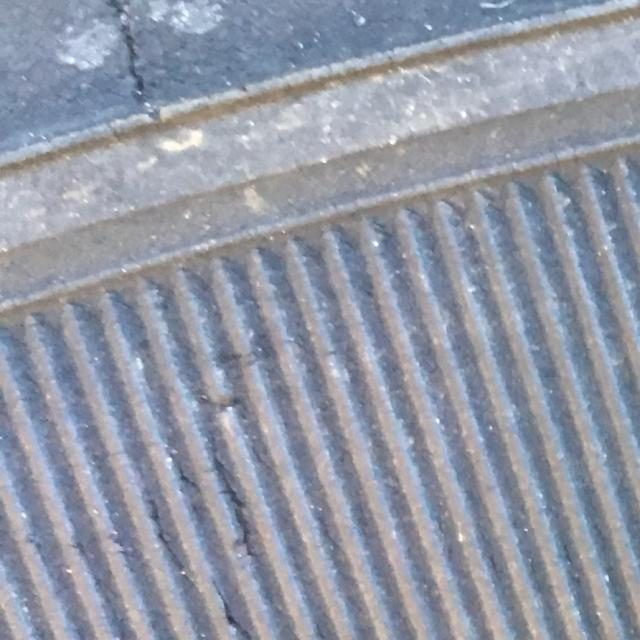Cracks: (128, 450, 296, 639), (81, 0, 196, 133)
Non-defective: (328, 0, 640, 640)
